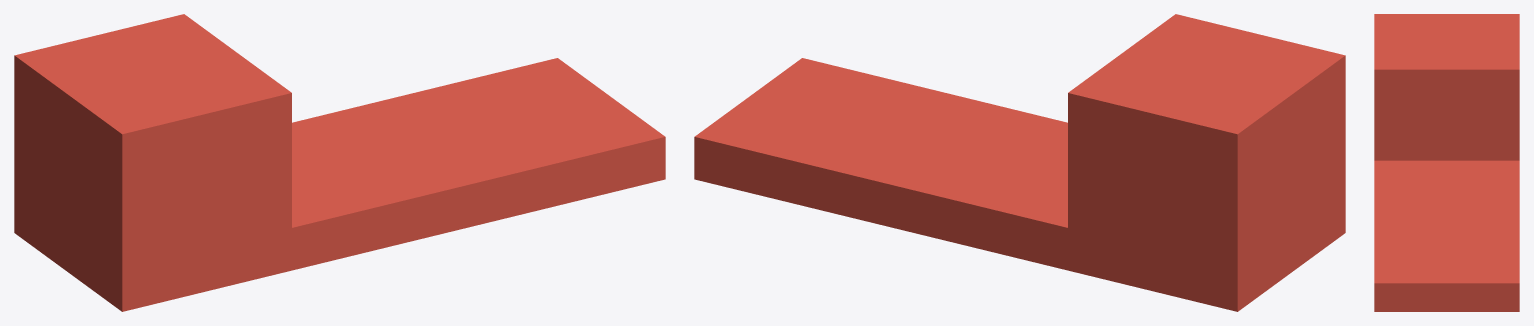
Rendered from lounger.glb.
3 views of the same model, side by side, from view 1: azimuth 30°, elevation 25°; view 2: azimuth 150°, elevation 25°; view 3: azimuth 270°, elevation 25° (orthographic). The views are drawn at different scales.
Parts seen in each view (by area): view 1: lounger; view 2: lounger; view 3: lounger.
Part boxes in pixels (x1,y1,x2,y2): lounger: (14, 14, 665, 311); lounger: (694, 14, 1345, 311); lounger: (1374, 14, 1519, 311).
Bounding box in the file's own units: 1.6 × 0.5 × 0.55.
